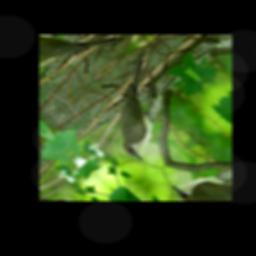Cuckoo: (74, 51, 205, 164)
